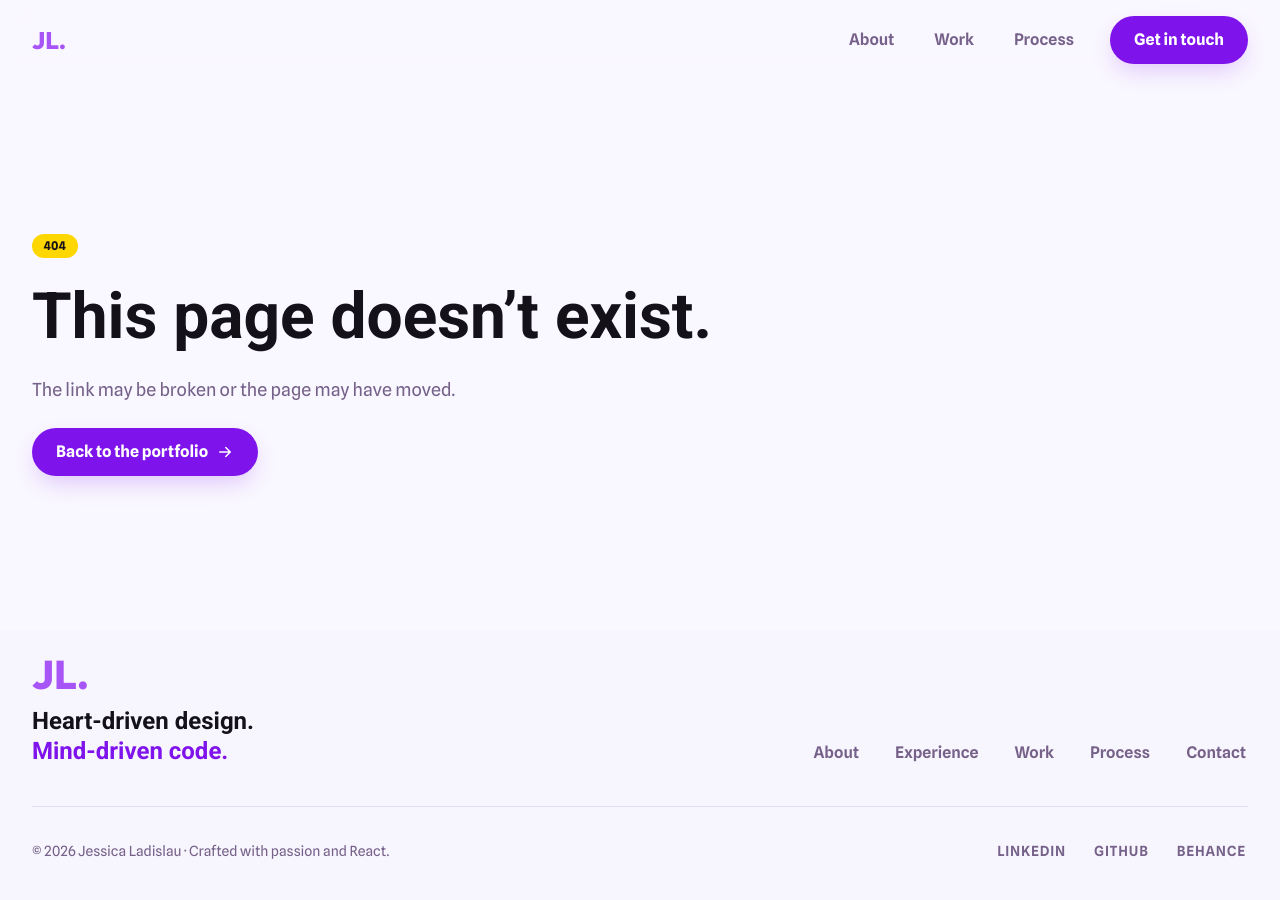
Test: App routing and home page › shows a friendly 404 for unknown routes
Expected: the heading "This page doesn’t exist." is shown, [32,282,712,352]
Step 1. Click the link "Back to the portfolio" → (145, 452), box [32,428,258,476]
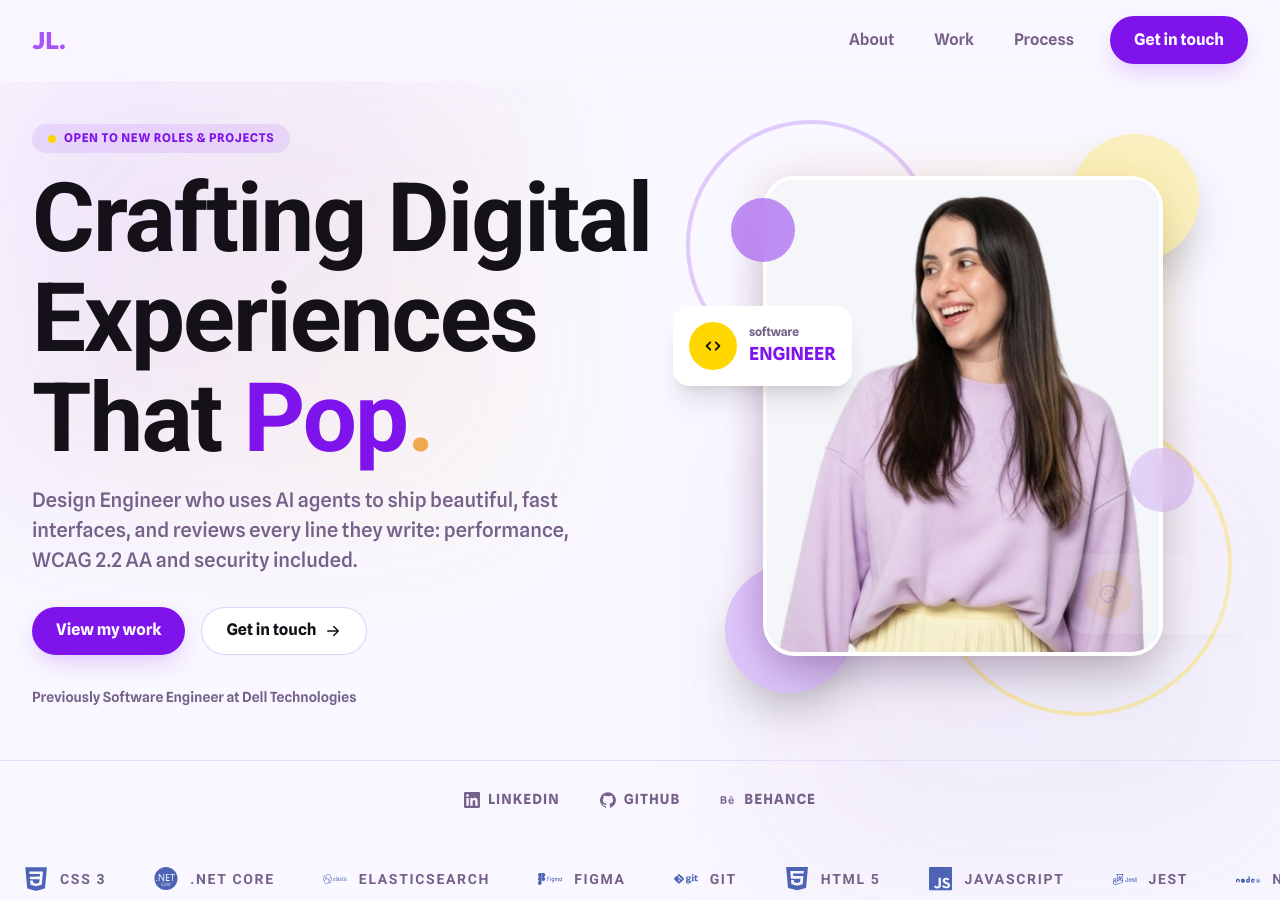
Now the heading shows "Crafting Digital", box [32,162,651,274]
